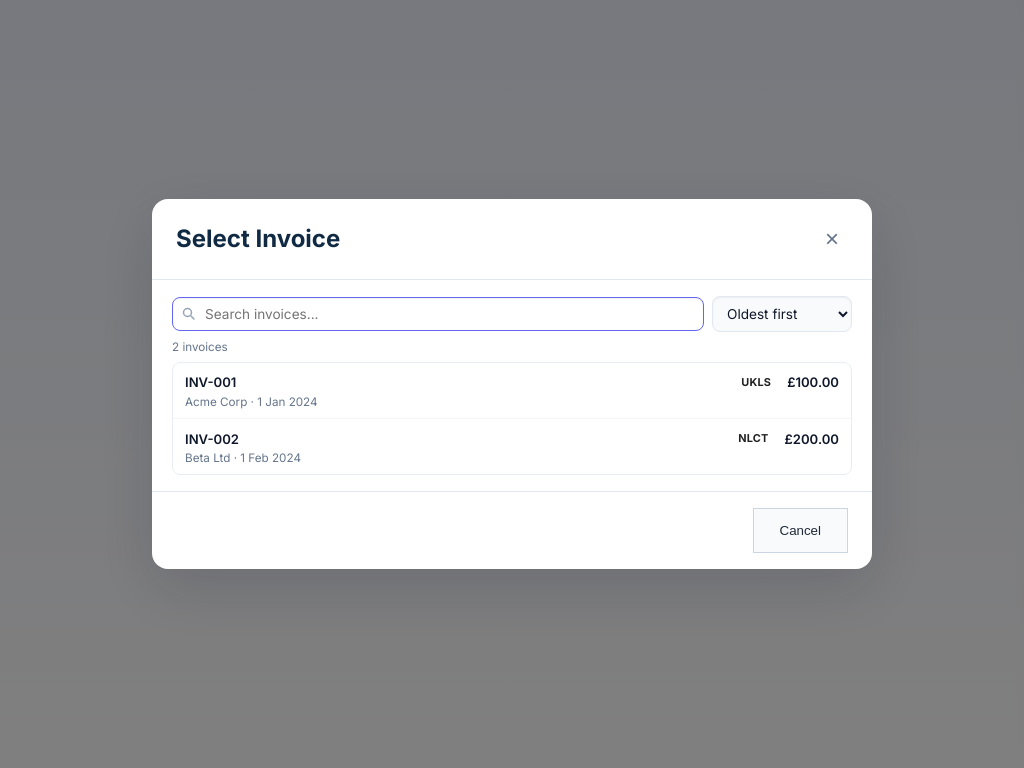
InvoicePickerModal › filters invoices by search term
The image size is (1024, 768).
Type "INV-001" into the field with placeholder "Search invoices..." at (438, 314), box x1=172 y1=297 x2=704 y2=331
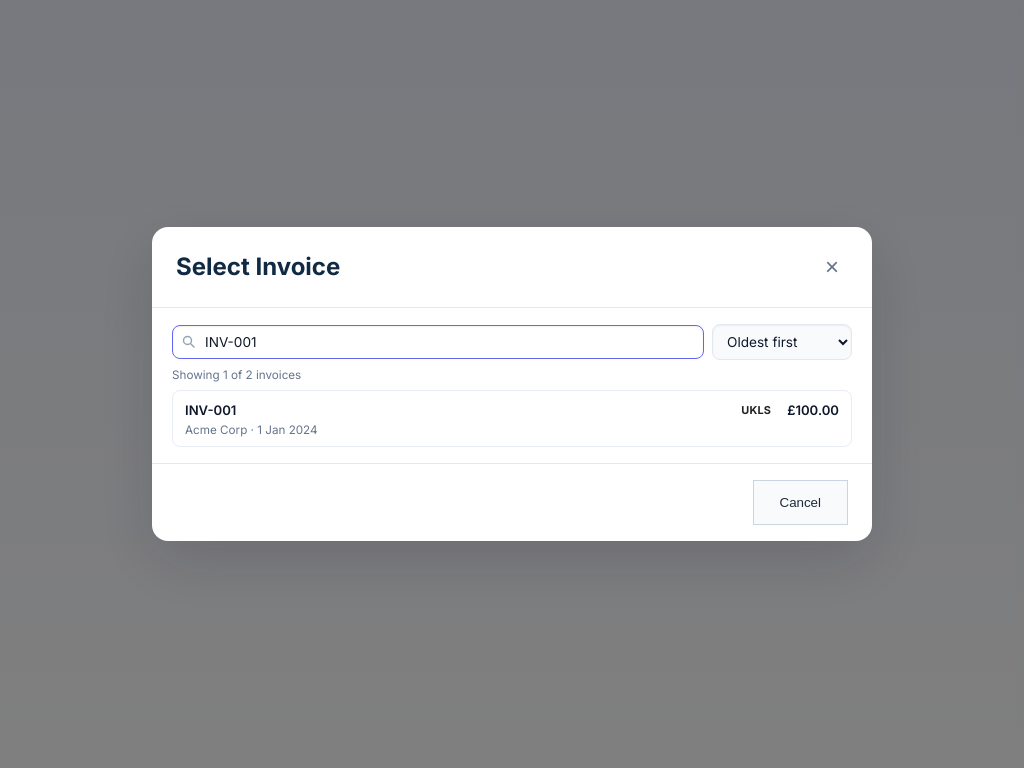
Expected: the text "INV-001" is shown, x1=185 y1=402 x2=236 y2=418
Now the text "INV-002" is gone
